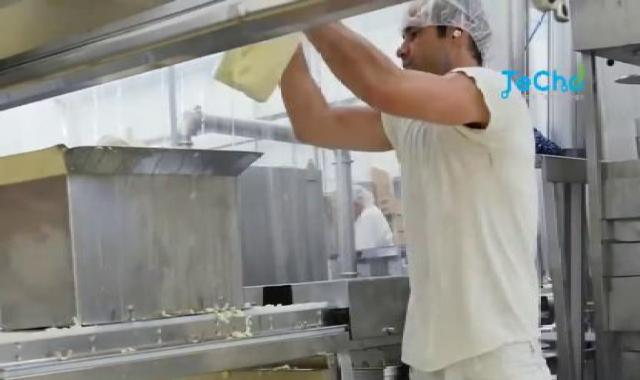hairnet: (390, 1, 501, 76)
